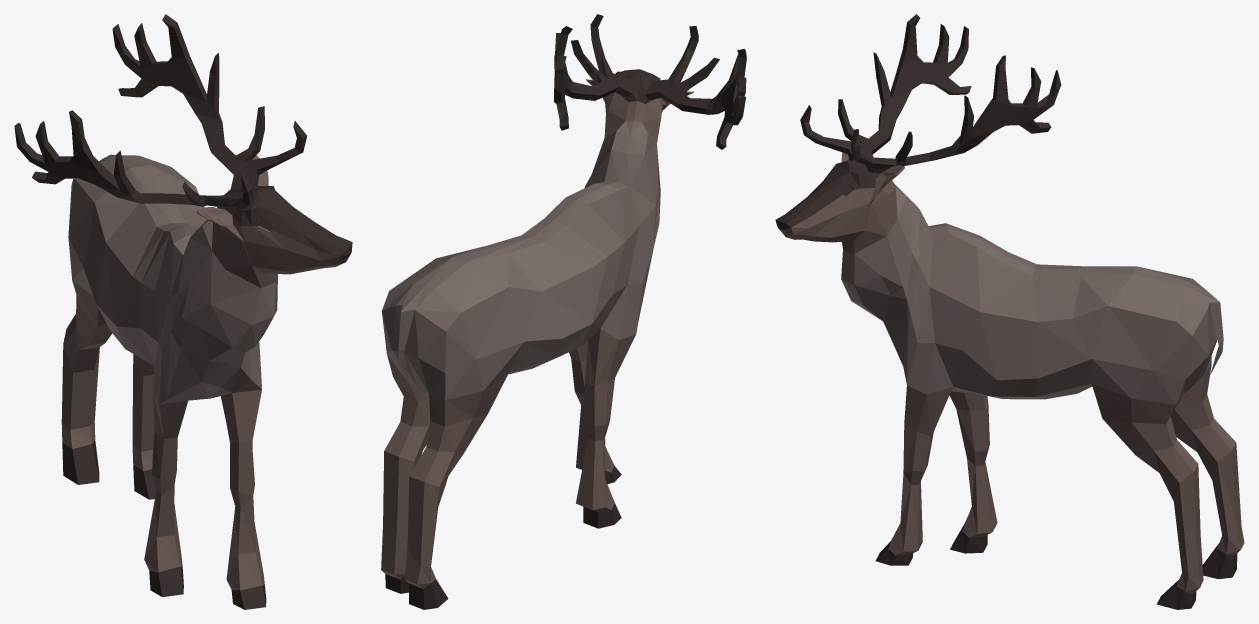
File: polar_deer.fbx
3 views of the same model, side by side, from view 1: azimuth 30°, elevation 25°; view 2: azimuth 150°, elevation 25°; view 3: azimuth 270°, elevation 25° (orthographic). The views are drawn at different scales.
Visible parts, largest first — view 1: reindeer; view 2: reindeer; view 3: reindeer.
Boxes of the visible parts, bbox=[...] form: reindeer: bbox=[14, 14, 352, 609]; reindeer: bbox=[381, 14, 746, 609]; reindeer: bbox=[775, 14, 1244, 609].
Bounding box in the file's own units: 2.79 × 5.42 × 4.51.
